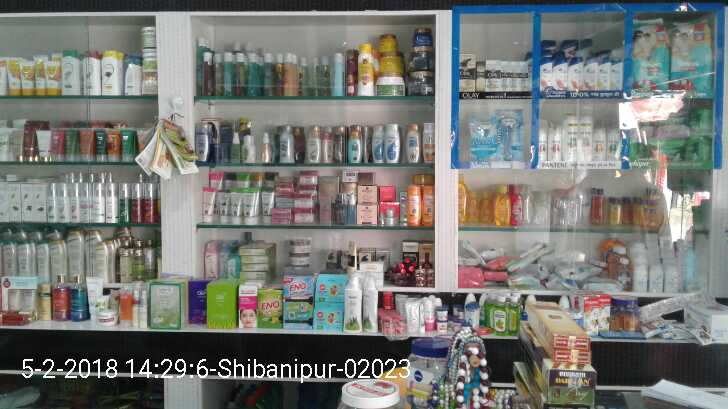venus: (492, 107, 526, 162), (468, 120, 492, 162)
